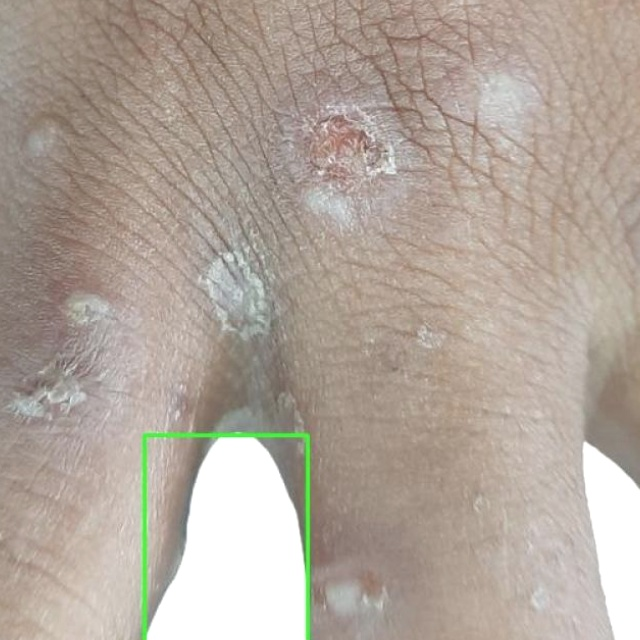Scabies: (144, 435, 307, 639)
